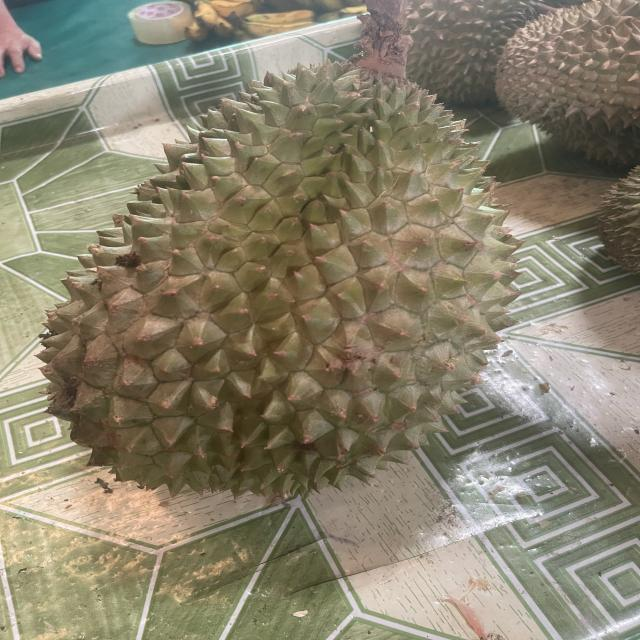mature: (34, 60, 528, 500), (478, 0, 640, 153), (364, 2, 588, 90)
